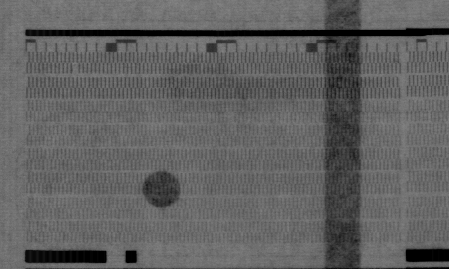Broken hole: (69, 63, 81, 76)
